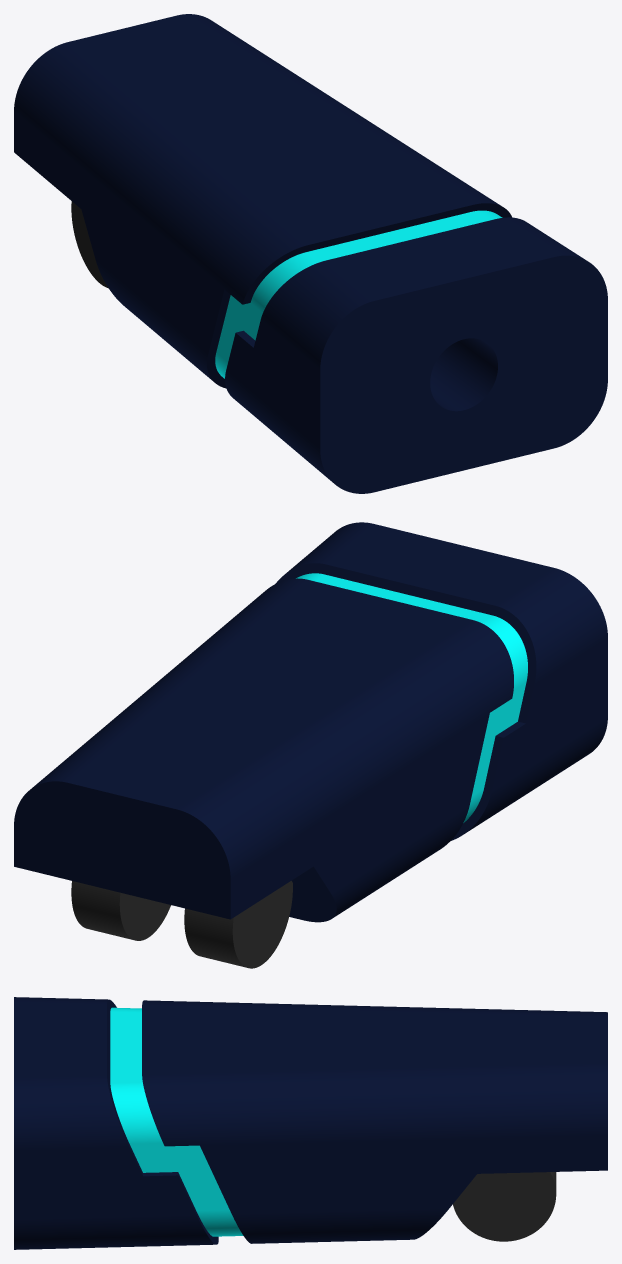
The model's file is Control 02.fbx.
3 views of the same model, one above another, from view 1: azimuth 30°, elevation 25°; view 2: azimuth 150°, elevation 25°; view 3: azimuth 270°, elevation 25° (orthographic). The views are drawn at different scales.
Visible parts, largest first — view 1: Assem1（part) (×4); view 2: Assem1（part) (×5); view 3: Assem1（part) (×4).
Part boxes in pixels (<box>): Assem1（part) (×4): <box>14,14,607,493</box>; Assem1（part) (×5): <box>14,522,607,968</box>; Assem1（part) (×4): <box>14,997,607,1249</box>.
Bounding box in the file's own units: 5.5 × 3.51 × 11.32.
